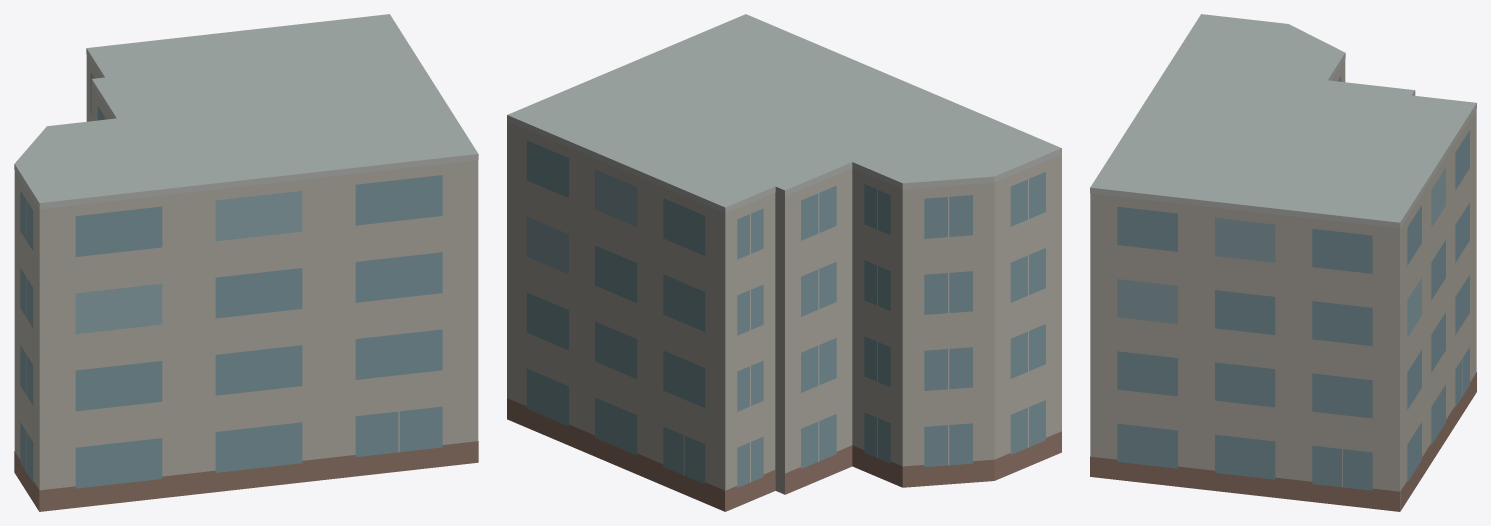
Rendered from survey-upis-33002354.glb.
3 renders of one model, left to right at view 1: azimuth 30°, elevation 25°; view 2: azimuth 150°, elevation 25°; view 3: azimuth 270°, elevation 25°, orthographic. The views are drawn at different scales.
Visible parts, largest first — view 1: survey-upis-33002354.tmp; view 2: survey-upis-33002354.tmp; view 3: survey-upis-33002354.tmp.
Boxes of the visible parts, x1,y1,x2,y2 form: survey-upis-33002354.tmp: (14, 14, 478, 511); survey-upis-33002354.tmp: (507, 14, 1061, 511); survey-upis-33002354.tmp: (1090, 14, 1476, 511).
Bounding box in the file's own units: 18.89 × 12.2 × 14.8.
